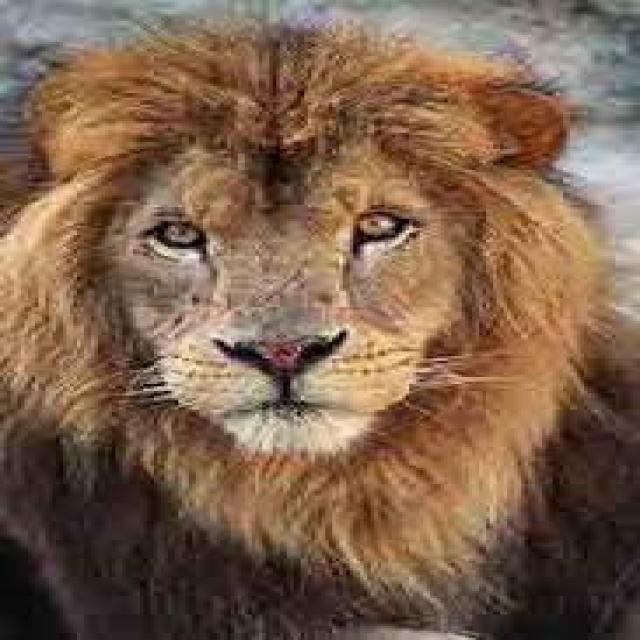Carnivorous: (0, 12, 640, 640)
